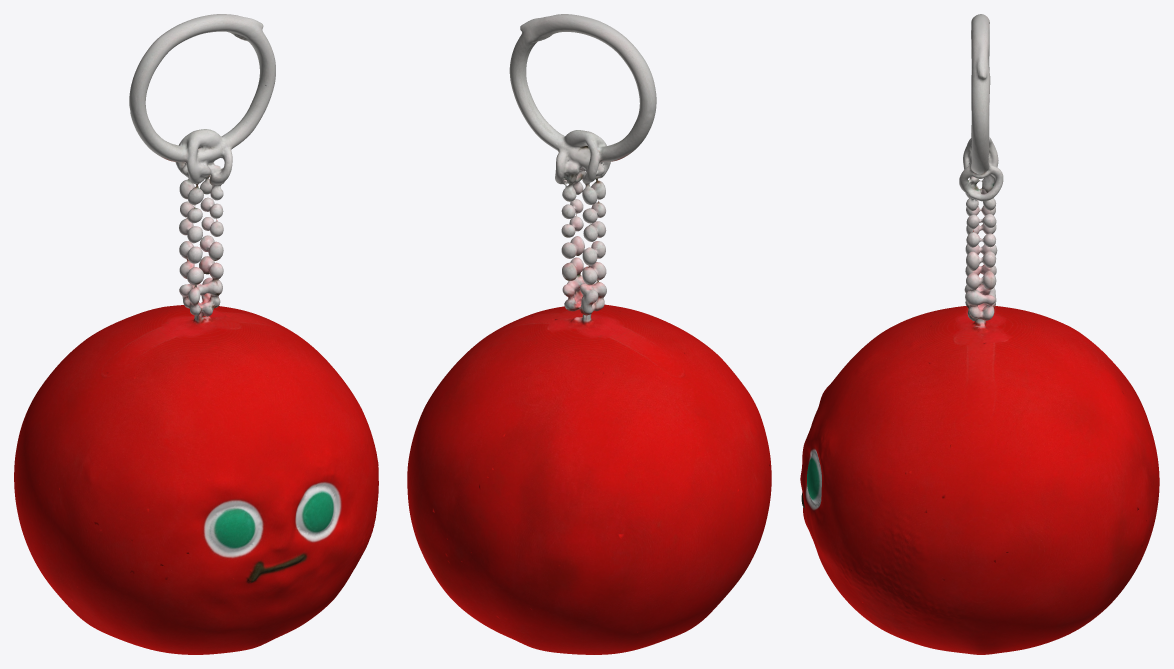
The model's file is hanging-ball-red.glb.
3 views of the same model, side by side, from view 1: azimuth 30°, elevation 25°; view 2: azimuth 150°, elevation 25°; view 3: azimuth 270°, elevation 25° (orthographic).
Size of the model in its own units: 1.06 by 2 by 1.06.
1 material, 1 textured.
